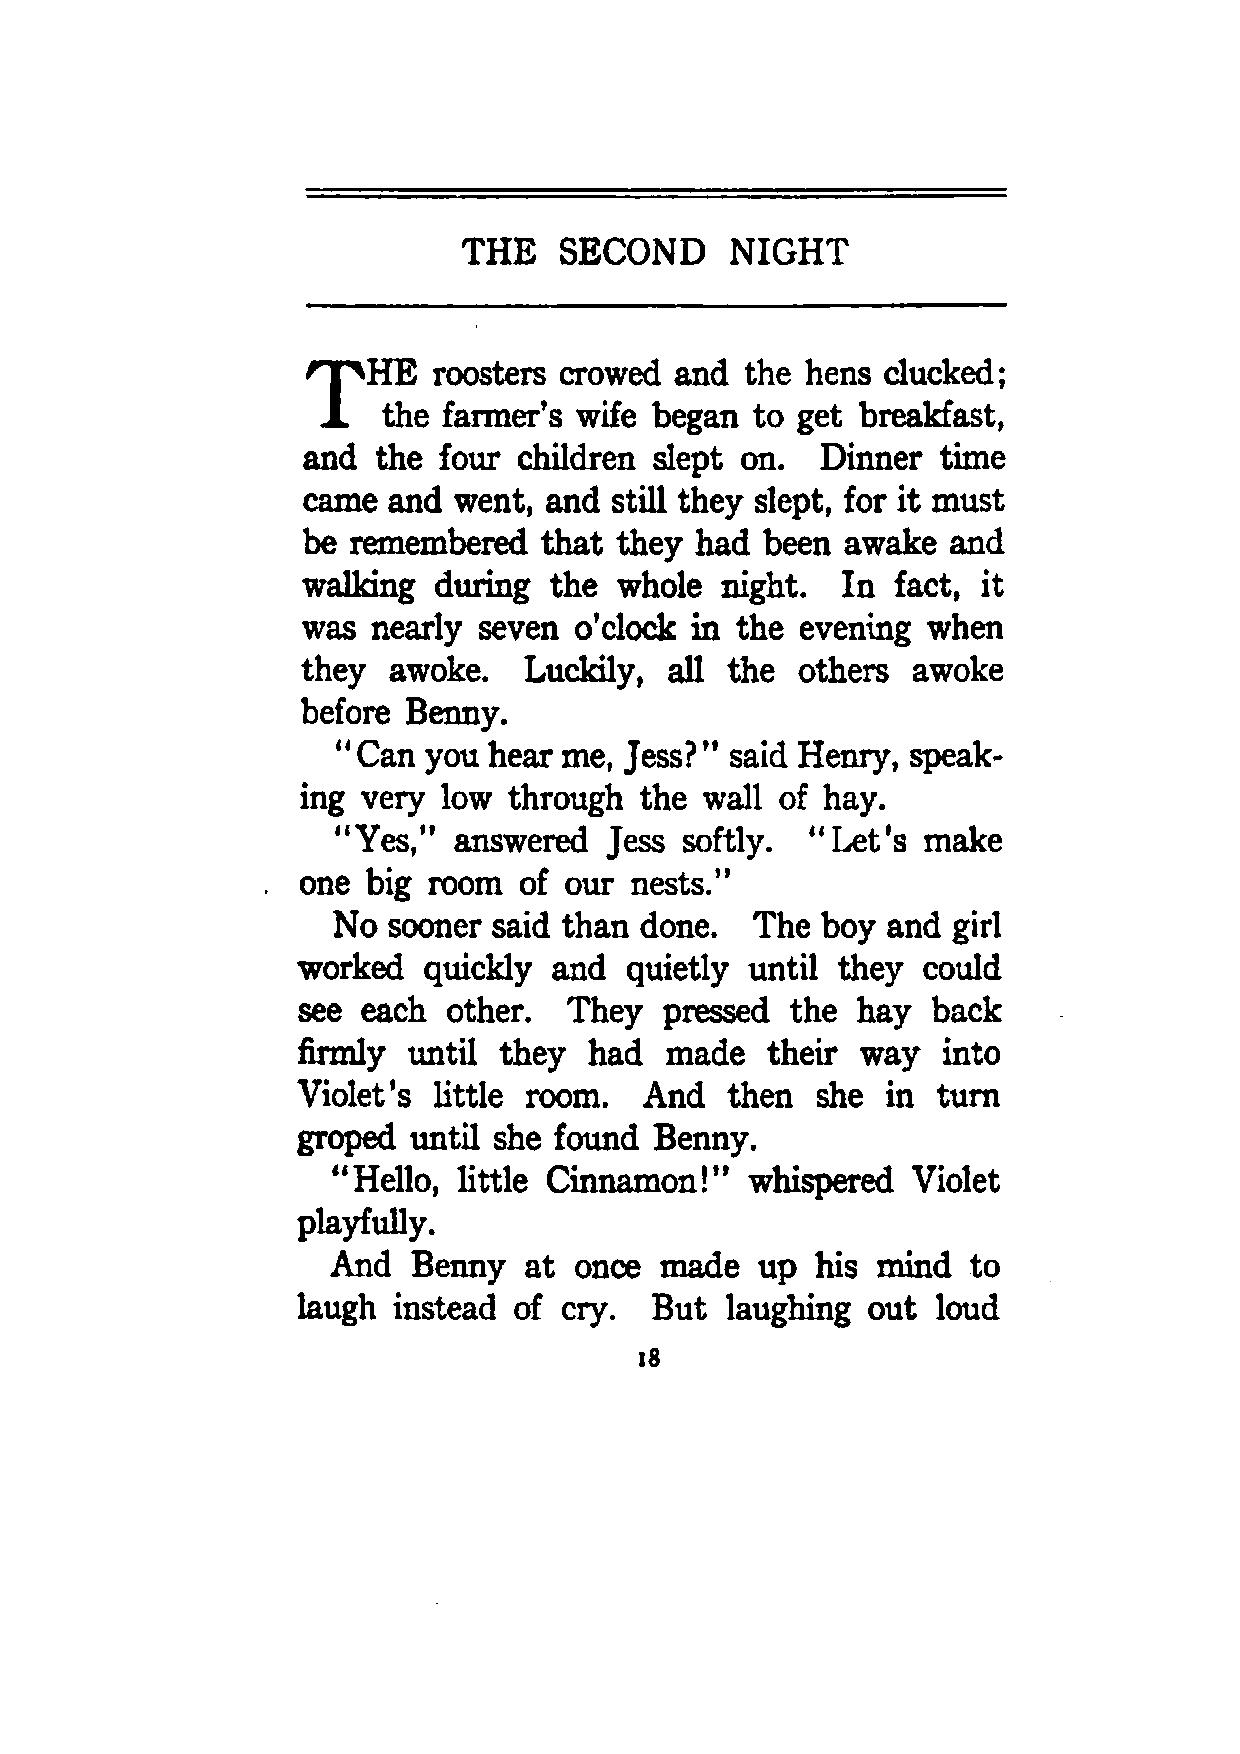chapter: (458, 234, 852, 268)
content: (295, 354, 1008, 1329)
content_pagenumber: (635, 1346, 660, 1369)
